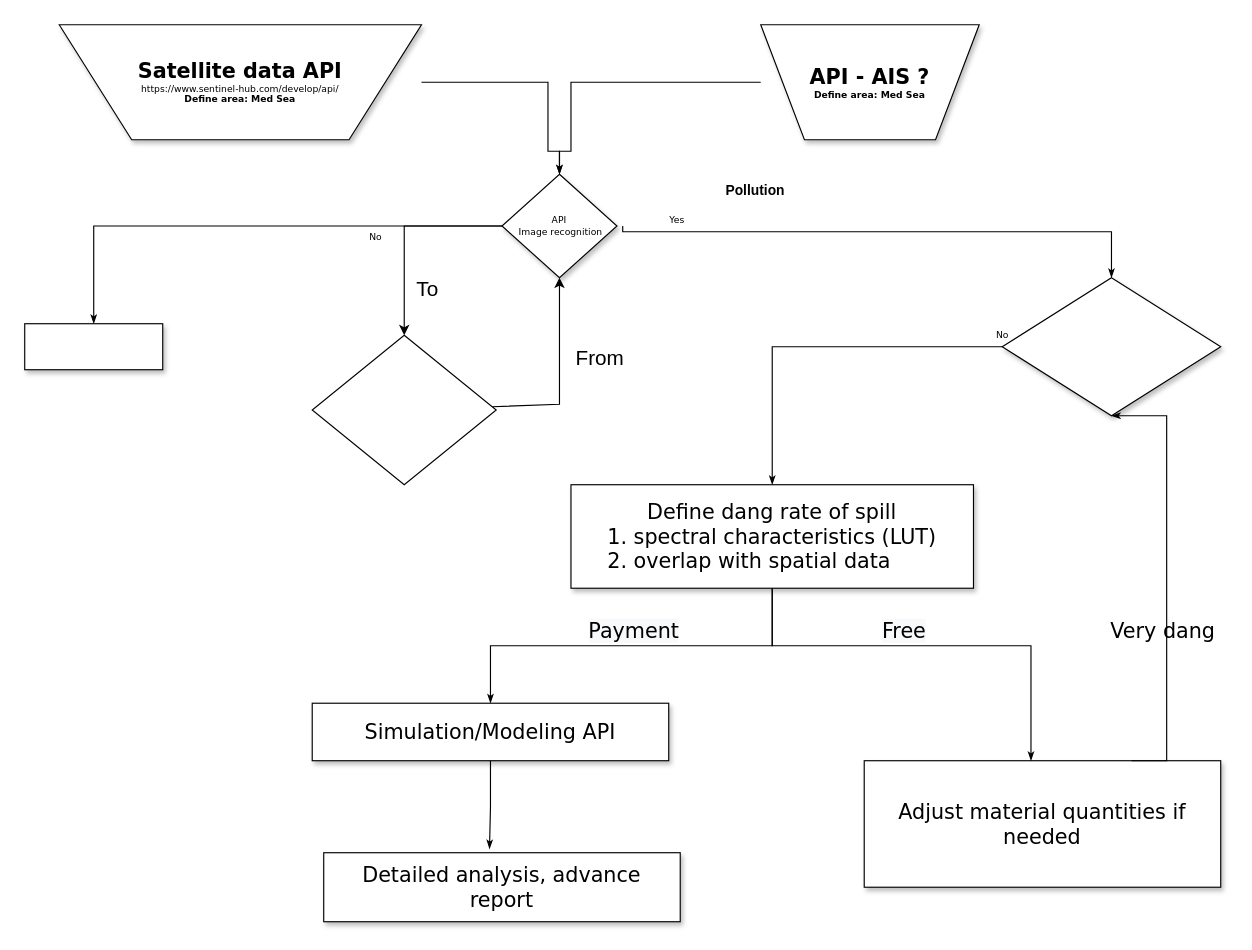
This 1252x950 diagram has some shape labels left out. Here are the shapes that lost their labels. From the top down, the centre of each, then its label:
point (94, 348): drop data
point (1112, 348): Alert : Info Near ship AIS Weather
point (403, 409): Pixels class LUT (semion)
